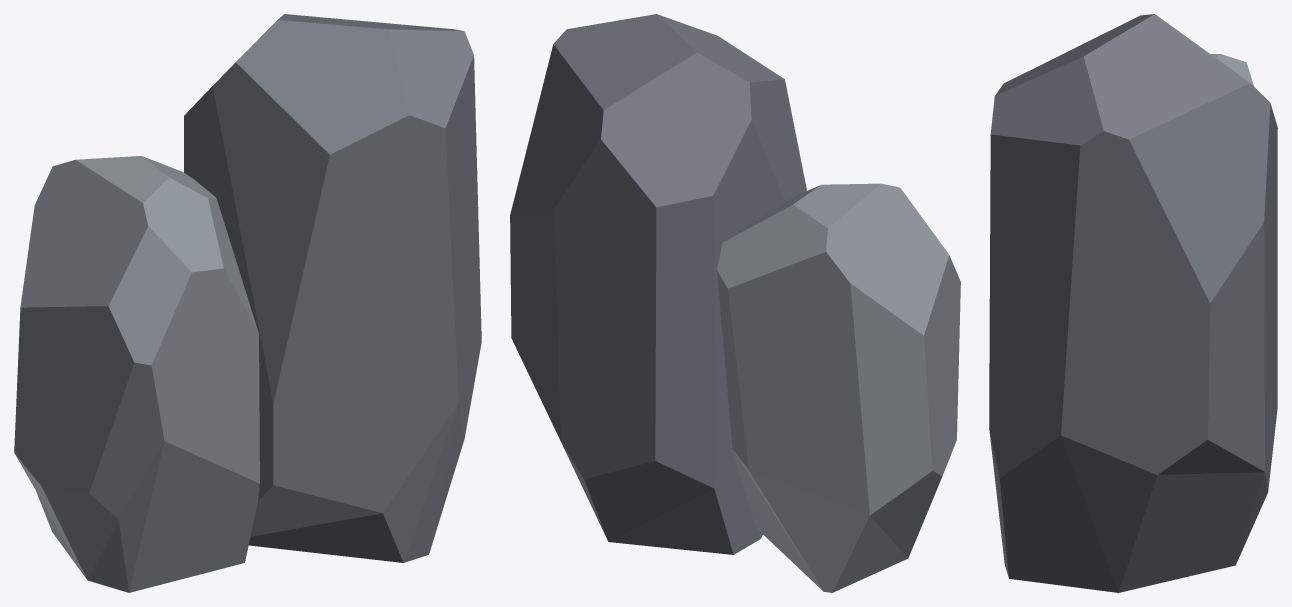
File: Rocks_Round_m_05.fbx
3 renders of one model, left to right at view 1: azimuth 30°, elevation 25°; view 2: azimuth 150°, elevation 25°; view 3: azimuth 270°, elevation 25°, orthographic. The views are drawn at different scales.
Parts seen in each view (by area): view 1: Rocks_Round_m_05; view 2: Rocks_Round_m_05; view 3: Rocks_Round_m_05.
Boxes of the visible parts, x1,y1,x2,y2 form: Rocks_Round_m_05: [14, 14, 481, 592]; Rocks_Round_m_05: [510, 14, 960, 592]; Rocks_Round_m_05: [989, 14, 1277, 592].
Size of the model in its own units: 145 by 163 by 81.32.
